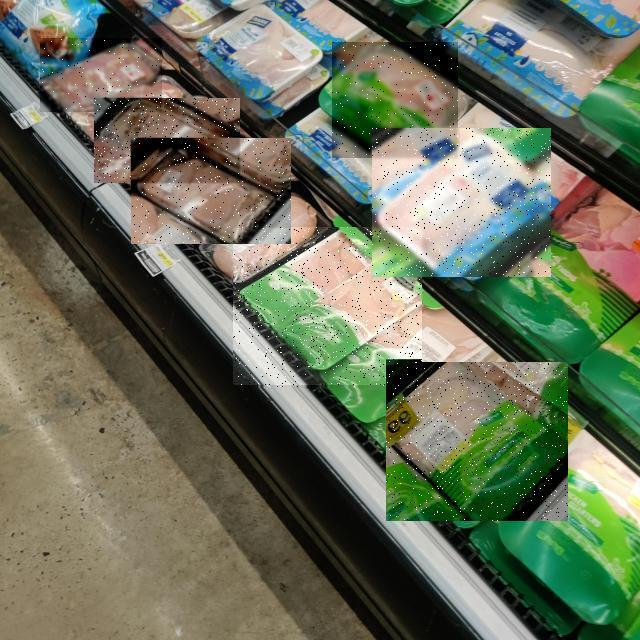Meat: (233, 228, 422, 388), (387, 362, 569, 521), (372, 128, 551, 277), (131, 138, 291, 244), (332, 42, 458, 158), (95, 98, 241, 183), (40, 38, 162, 112)
